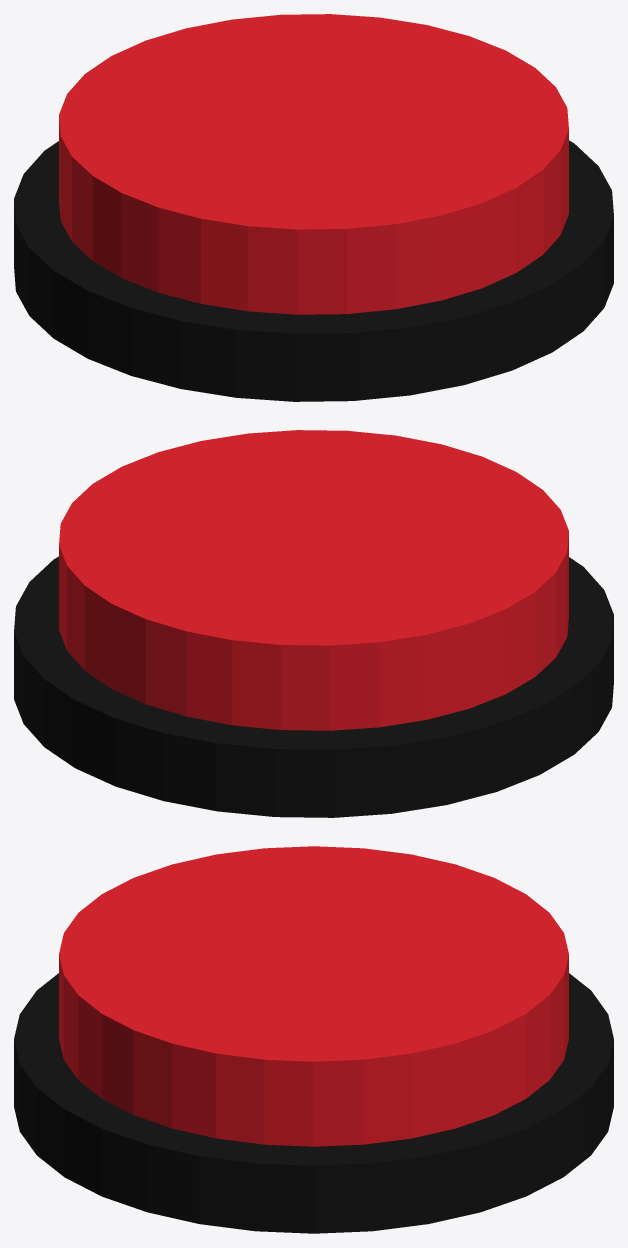
The model's file is UnpressedButton.glb.
The picture shows the model from 3 angles, top to bottom: view 1: azimuth 30°, elevation 25°; view 2: azimuth 150°, elevation 25°; view 3: azimuth 270°, elevation 25°; orthographic projection.
Visible parts, largest first — view 1: Cylinder.001, Cylinder; view 2: Cylinder.001, Cylinder; view 3: Cylinder.001, Cylinder.
Boxes of the visible parts, box(x1,y1,x2,y2) form: Cylinder.001: box(59, 14, 568, 314); Cylinder: box(14, 140, 613, 401); Cylinder.001: box(59, 430, 568, 730); Cylinder: box(14, 556, 613, 817); Cylinder.001: box(59, 846, 568, 1146); Cylinder: box(14, 973, 613, 1233).
Size of the model in its own units: 8 by 2.25 by 8.
